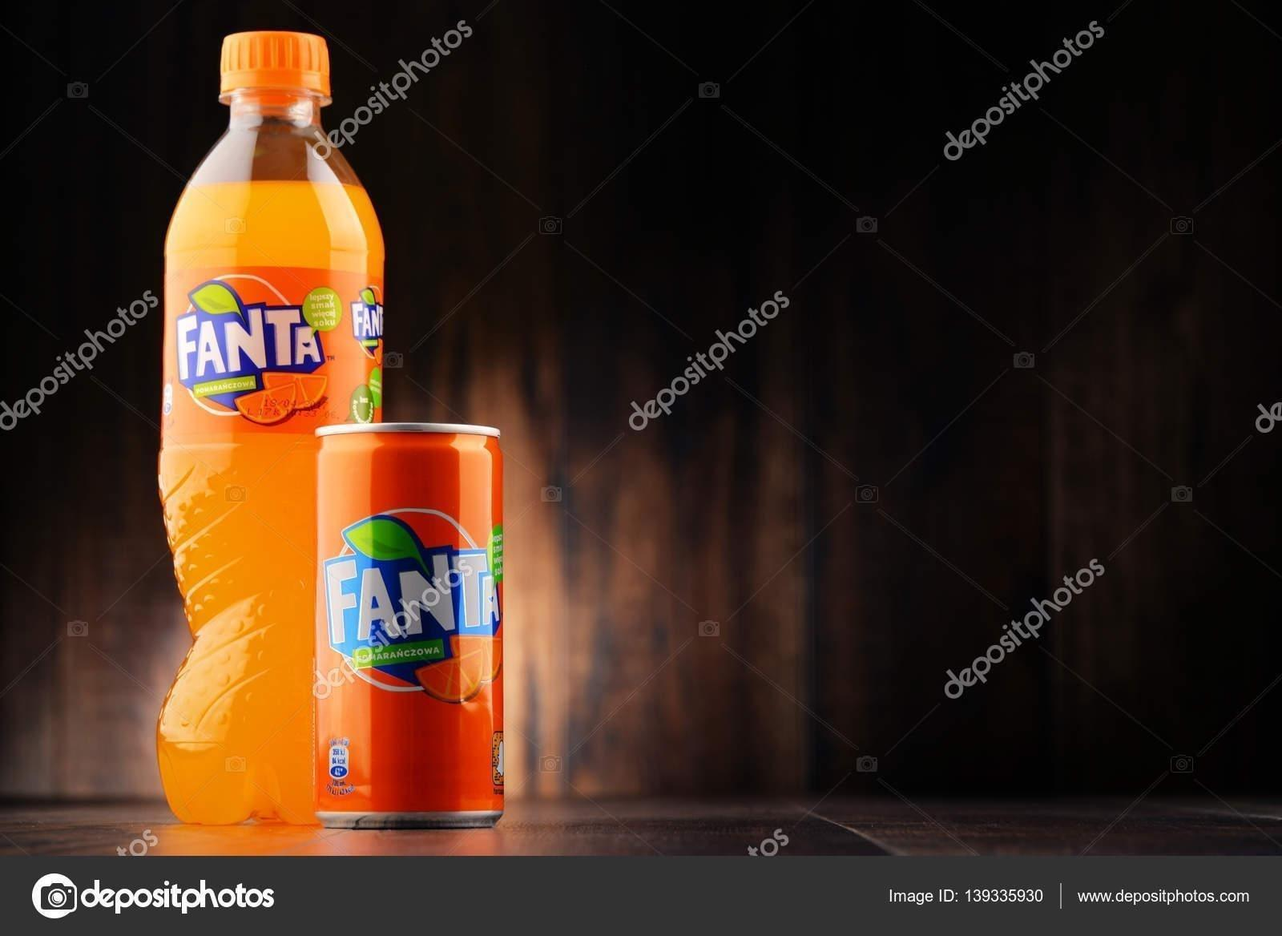bottle-plastic: (150, 18, 395, 835)
tin can: (307, 411, 514, 844)
